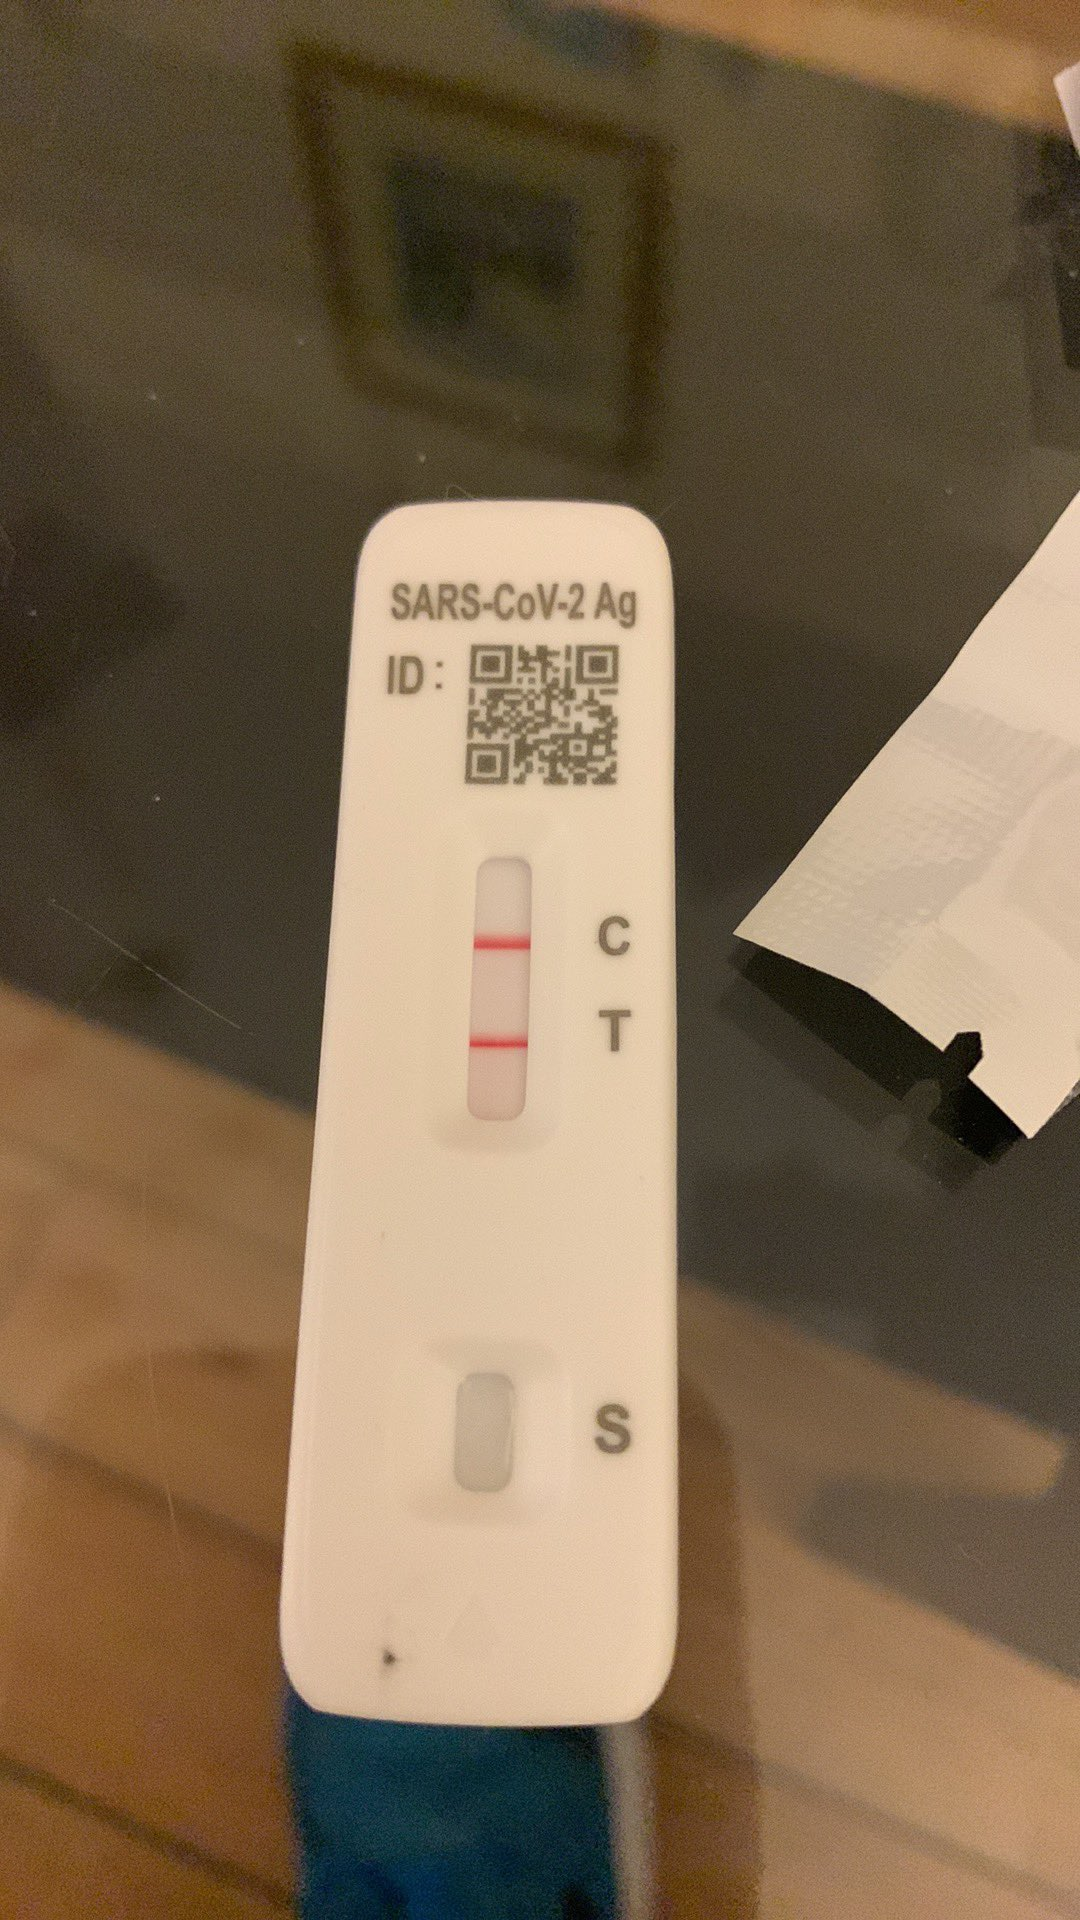Invalid: (454, 1356, 520, 1527)
positive: (451, 840, 567, 1156)
